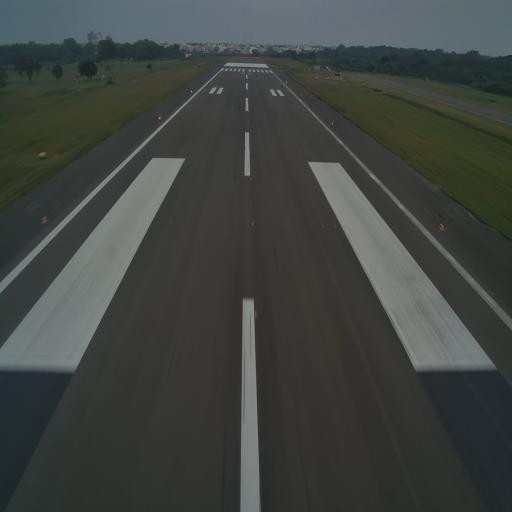off: (155, 217, 160, 228), (320, 221, 326, 230), (168, 218, 174, 226), (334, 221, 338, 229), (184, 148, 188, 154), (298, 151, 302, 156), (306, 151, 309, 156), (200, 148, 202, 154), (291, 150, 293, 156), (192, 149, 194, 153)
on: (41, 212, 48, 223), (438, 220, 444, 232), (249, 216, 254, 229), (253, 307, 258, 319), (248, 149, 252, 155), (249, 176, 252, 183)
